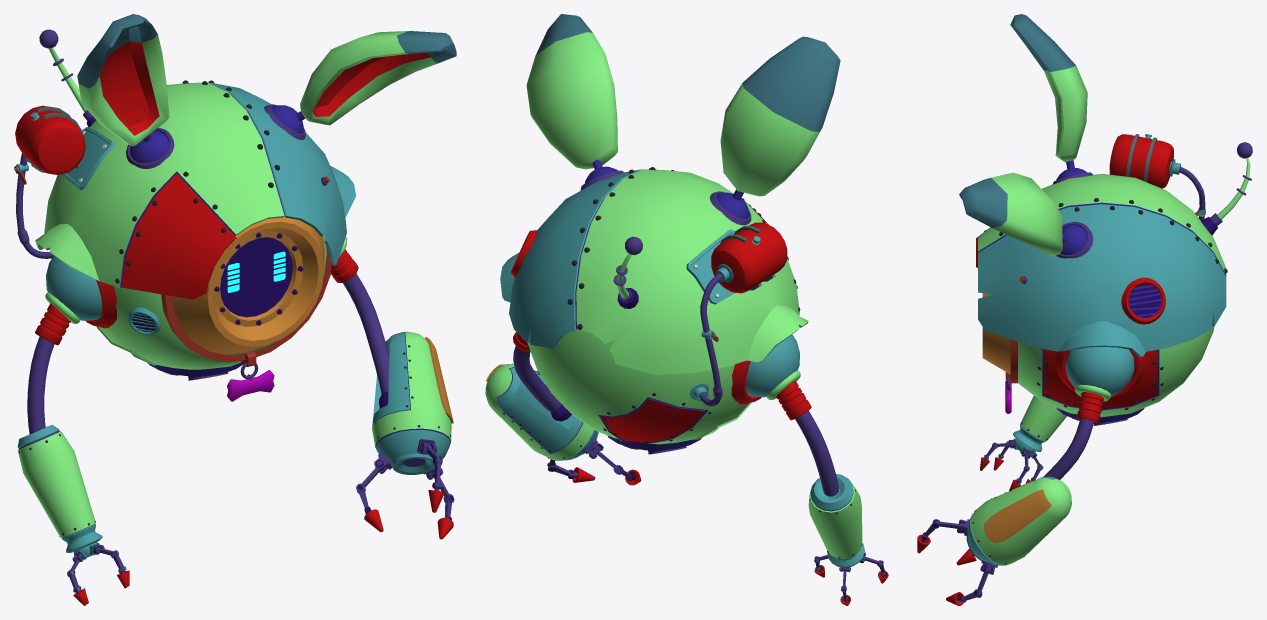
The model's file is uploads_files_3056734_Robot+v1.glb.
3 renders of one model, left to right at view 1: azimuth 30°, elevation 25°; view 2: azimuth 150°, elevation 25°; view 3: azimuth 270°, elevation 25°, orthographic. The views are drawn at different scales.
Parts seen in each view (by area): view 1: Sphere119_steel_02_01_0, Cylinder057_steel_01_01_0, Sphere119_steel_02_02_0, Sphere137, Sphere119_steel_01_02_0, Sphere138, Box016_steel_02_01_0, Sphere118_steel_02_01_0, Cylinder057_wire_03_0, Box015_steel_02_02_0, Cylinder079, Box015_steel_02_01_0 (+21 smaller); view 2: Sphere119_steel_02_01_0, Sphere118_steel_02_01_0, Box016_steel_02_01_0, Sphere119_steel_01_02_0, Box015_steel_02_01_0, Box015_wire_01_0, Sphere137, Sphere138, Cylinder079, Sphere118_steel_02_02_0, Object018_steel_01_02_0, Line005 (+10 smaller); view 3: Sphere119_steel_01_02_0, Sphere119_steel_02_01_0, Sphere137, Sphere118_steel_02_01_0, Box016_steel_02_01_0, Box015_steel_02_01_0, Object023_steel_01_02_0, Cylinder079, Sphere118_steel_02_02_0, Object022_steel_01_01_0, Box016_wire_01_0, Box015_wire_01_0 (+11 smaller).
Boxes of the visible parts, <box> form: Sphere119_steel_02_01_0: <box>35,82,284,287</box>; Cylinder057_steel_01_01_0: <box>172,216,324,354</box>; Sphere119_steel_02_02_0: <box>121,174,236,299</box>; Sphere137: <box>372,331,451,474</box>; Sphere119_steel_01_02_0: <box>209,82,355,265</box>; Sphere138: <box>17,425,102,557</box>; Box016_steel_02_01_0: <box>300,31,437,125</box>; Sphere118_steel_02_01_0: <box>96,234,326,369</box>; Cylinder057_wire_03_0: <box>220,237,292,317</box>; Box015_steel_02_02_0: <box>99,41,159,135</box>; Cylinder079: <box>15,105,85,174</box>; Box015_steel_02_01_0: <box>78,34,169,146</box>; Sphere119_steel_02_01_0: <box>576,169,808,374</box>; Sphere118_steel_02_01_0: <box>527,329,751,444</box>; Box016_steel_02_01_0: <box>526,32,617,169</box>; Sphere119_steel_01_02_0: <box>500,169,642,348</box>; Box015_steel_02_01_0: <box>720,83,821,196</box>; Box015_wire_01_0: <box>742,36,840,131</box>; Sphere137: <box>485,363,598,460</box>; Sphere138: <box>808,474,864,567</box>; Cylinder079: <box>711,222,787,293</box>; Sphere118_steel_02_02_0: <box>601,399,704,443</box>; Object018_steel_01_02_0: <box>745,334,799,397</box>; Line005: <box>795,410,839,496</box>; Sphere119_steel_01_02_0: <box>978,204,1226,357</box>; Sphere119_steel_02_01_0: <box>978,174,1226,276</box>; Sphere137: <box>966,476,1071,565</box>; Sphere118_steel_02_01_0: <box>1018,326,1214,417</box>; Box016_steel_02_01_0: <box>991,172,1062,256</box>; Box015_steel_02_01_0: <box>1044,66,1087,162</box>; Object023_steel_01_02_0: <box>1065,347,1134,396</box>; Cylinder079: <box>1109,134,1173,188</box>; Sphere118_steel_02_02_0: <box>1044,349,1157,409</box>; Object022_steel_01_01_0: <box>983,489,1051,543</box>; Box016_wire_01_0: <box>959,177,1007,227</box>; Box015_wire_01_0: <box>1010,14,1075,71</box>.
Bounding box in the file's own units: 59.03 × 81.99 × 50.87.
